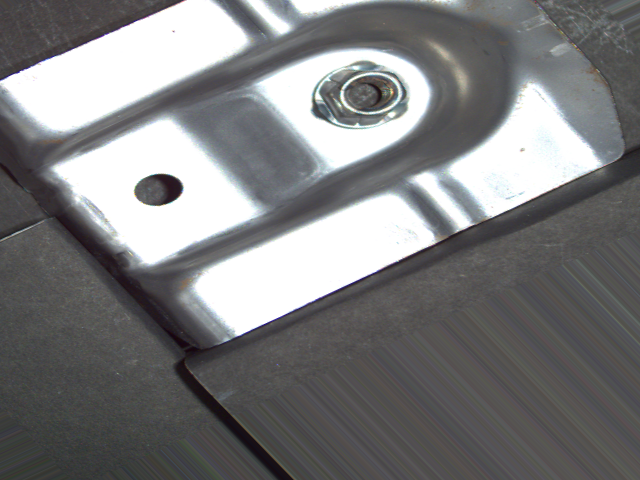good: (309, 57, 416, 135)
